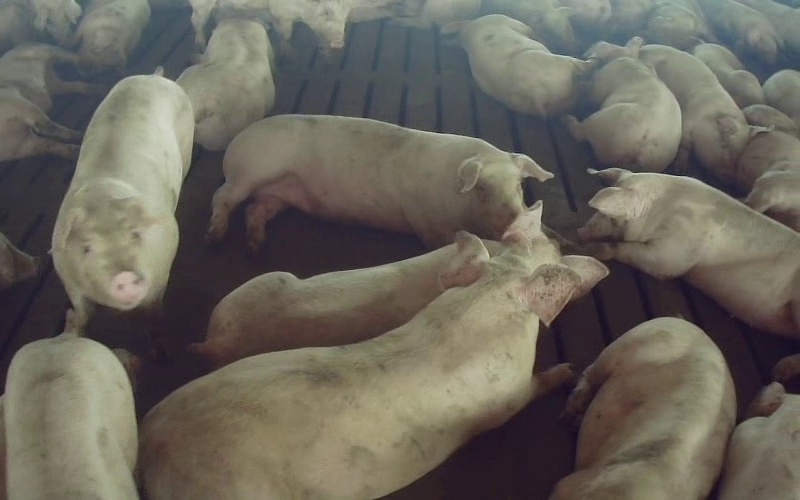pig: (139, 236, 575, 499), (208, 116, 552, 251), (52, 74, 194, 357), (579, 168, 799, 337), (552, 318, 735, 499), (194, 245, 455, 366), (4, 334, 137, 499), (441, 14, 589, 117), (567, 38, 681, 171), (639, 46, 750, 182), (176, 19, 274, 150), (0, 43, 93, 161), (737, 104, 799, 230), (76, 0, 150, 70)
